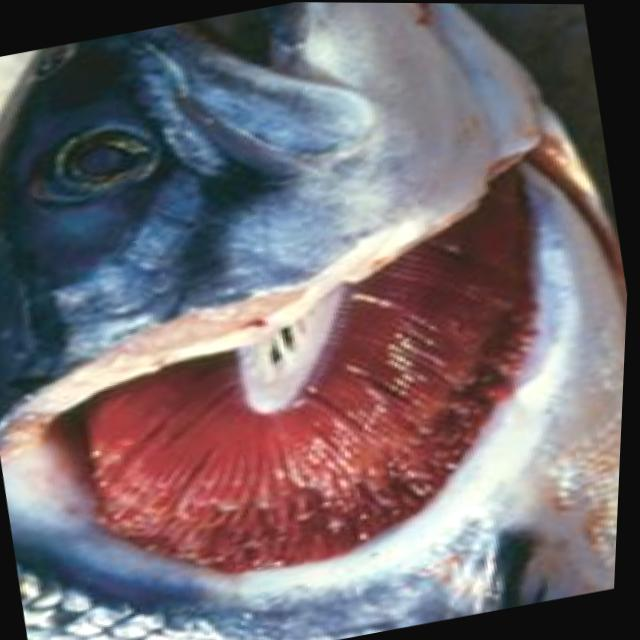Gill Disease: (0, 143, 611, 620)
